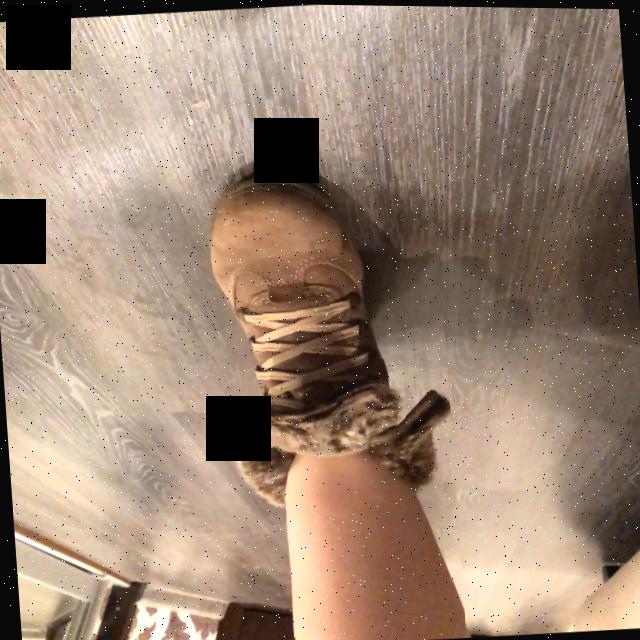shoe: (208, 164, 466, 640)
